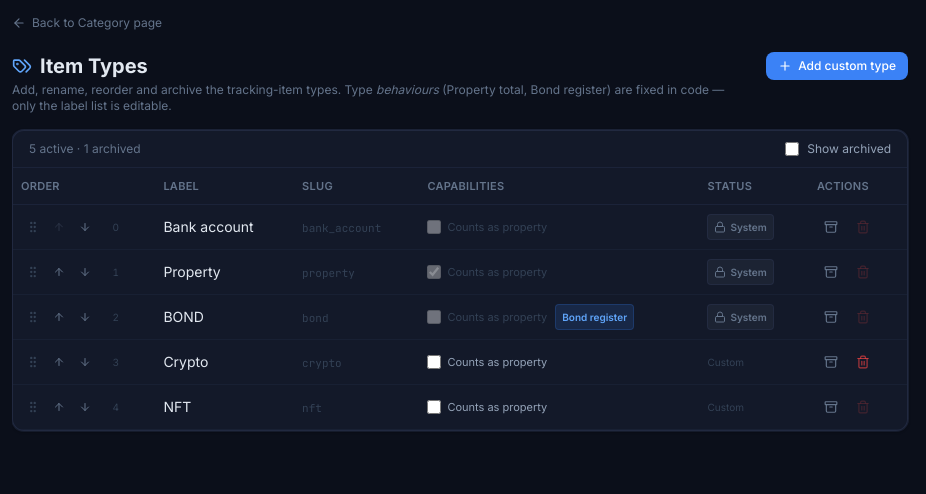
Scenario: ItemTypesSettingsPage — list › renders system rows with a System badge and custom rows without one; archived hidden by default
This screenshot has width=926, height=494.
Check: the button with aria-label "Edit label for Bank account" is shown, box [163,217,254,237]
Check: the text "System" in the row of "bank_account" is shown, box [730,221,767,233]
Click the checkbox labelled "Show archived". click: (792, 149)
box: [785,142,799,156]
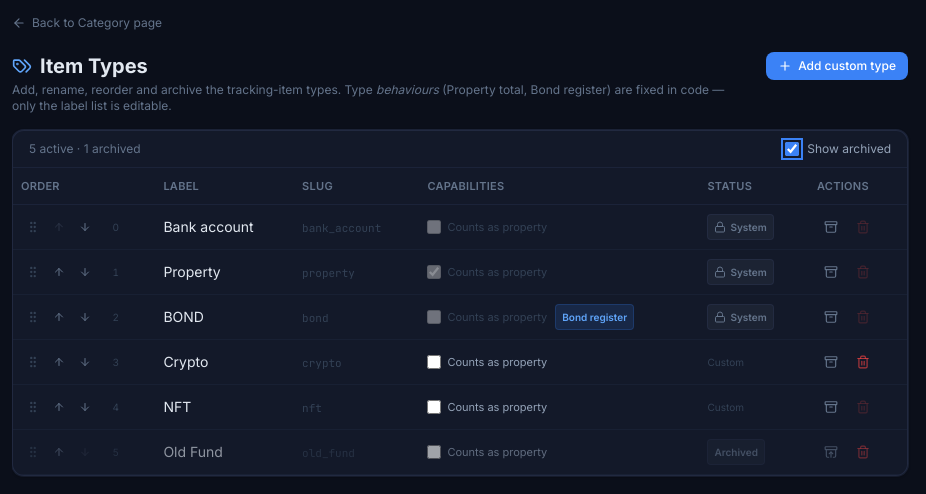
Check: the row with test id "item-type-row-old_fund" is shown, box [13,430,907,474]
